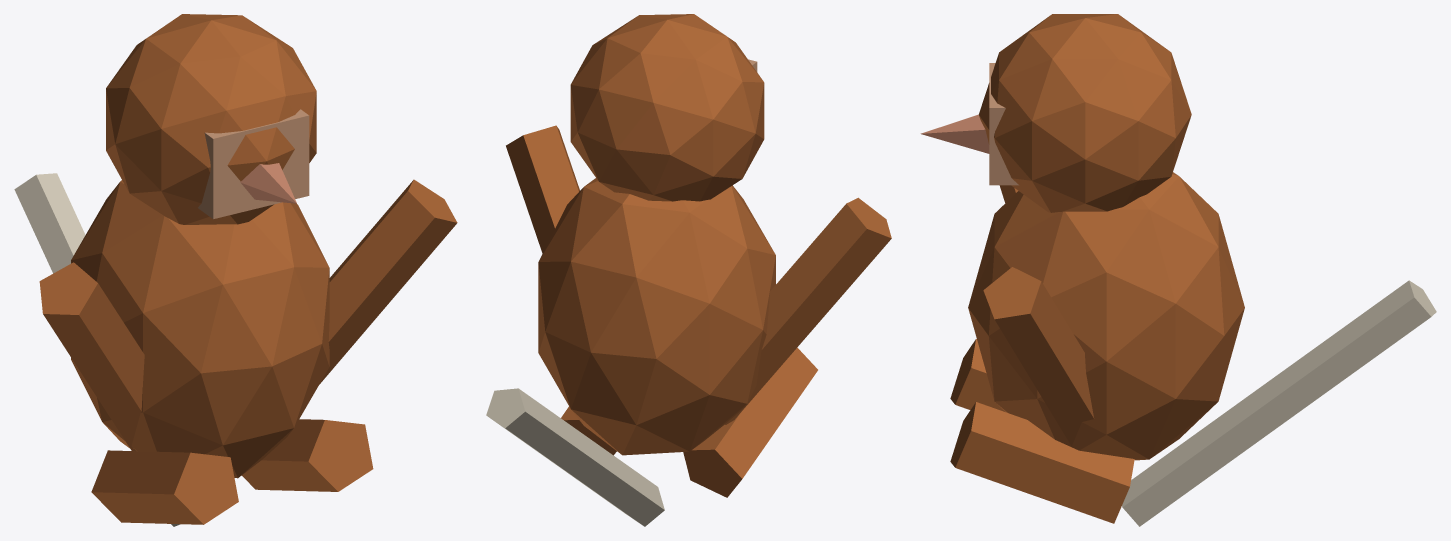
Rendered from bekantan.glb.
The picture shows the model from 3 angles, left to right: view 1: azimuth 30°, elevation 25°; view 2: azimuth 150°, elevation 25°; view 3: azimuth 270°, elevation 25°; orthographic projection. The views are drawn at different scales.
Parts seen in each view (by area): view 1: kbs_bekantan; view 2: kbs_bekantan; view 3: kbs_bekantan.
Boxes of the visible parts, left/top/right/bottom form: kbs_bekantan: left=14, top=14, right=457, bottom=526; kbs_bekantan: left=486, top=14, right=891, bottom=526; kbs_bekantan: left=920, top=14, right=1436, bottom=526.
Bounding box in the file's own units: 0.5705 × 0.7 × 0.6466.
